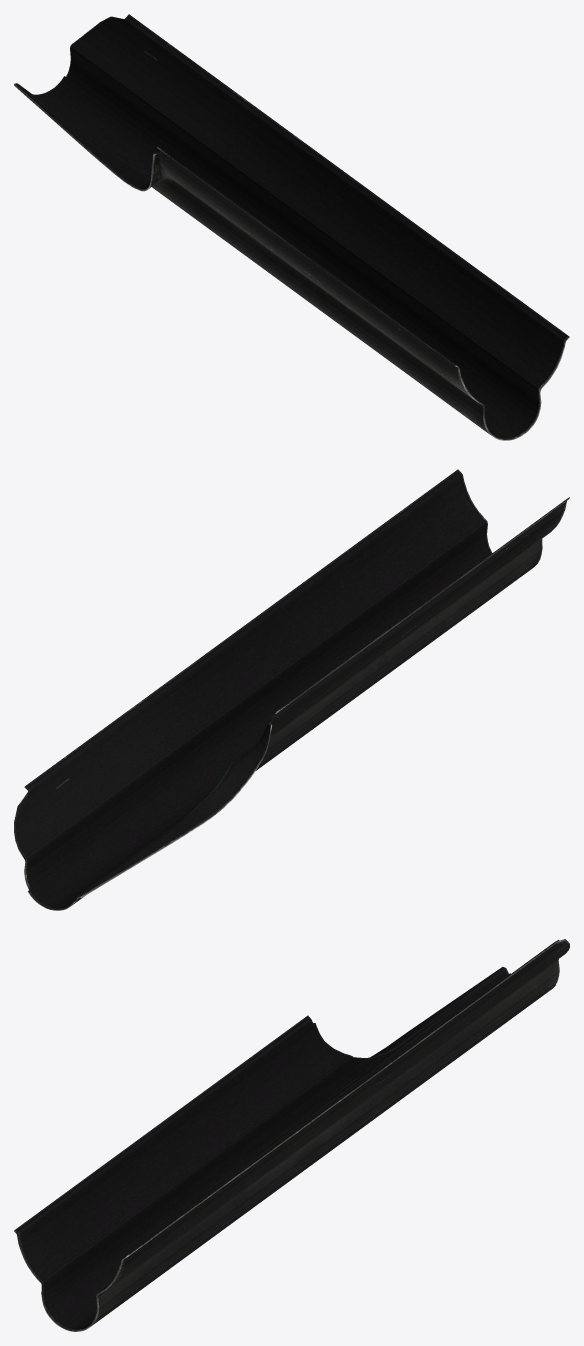
3 views of the same model, one above another, from view 1: azimuth 30°, elevation 25°; view 2: azimuth 150°, elevation 25°; view 3: azimuth 330°, elevation 25° (orthographic).
Visible parts, largest first — view 1: TW_5b7d6c105acfc40015109a5f_PZ_Import; view 2: TW_5b7d6c105acfc40015109a5f_PZ_Import; view 3: TW_5b7d6c105acfc40015109a5f_PZ_Import.
Part boxes in pixels (x1=…): TW_5b7d6c105acfc40015109a5f_PZ_Import: x1=14, y1=14, x2=569, y2=440; TW_5b7d6c105acfc40015109a5f_PZ_Import: x1=14, y1=469, x2=569, y2=910; TW_5b7d6c105acfc40015109a5f_PZ_Import: x1=14, y1=939, x2=569, y2=1331.
Size of the model in its own units: 0.0178 by 0.1266 by 0.0133.
1 material, 1 textured.
